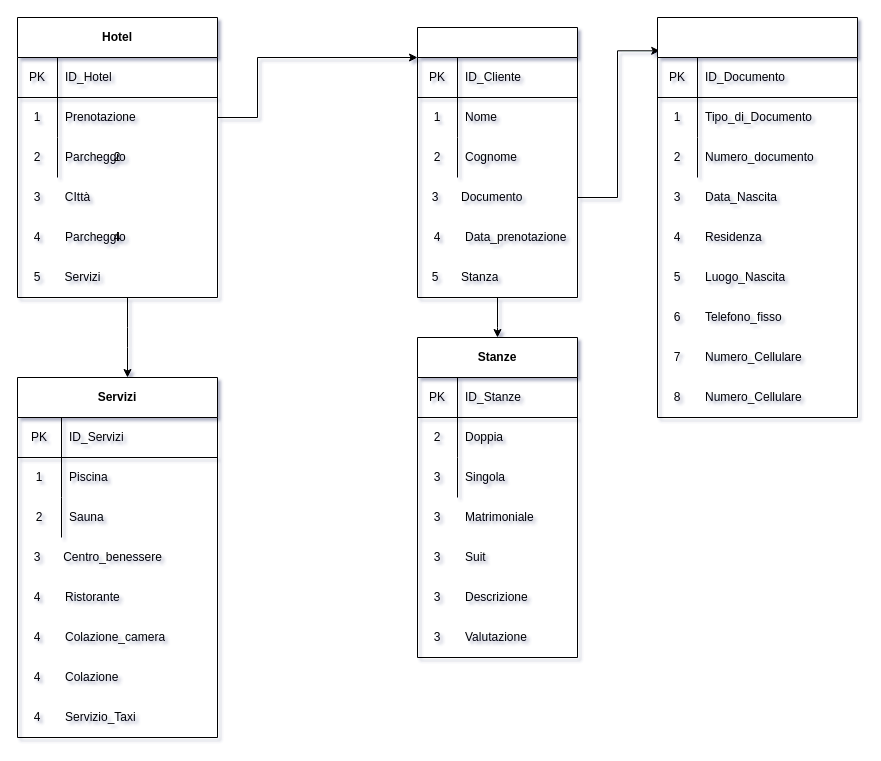
Some shapes in this 881 by 761 pixel diagram are drawn without their labels. Here are the shapes that lost their labels. From the top down, the box of each, then its label:
(416, 26, 578, 298): Clienti
(656, 16, 858, 418): Dati_Cliente
